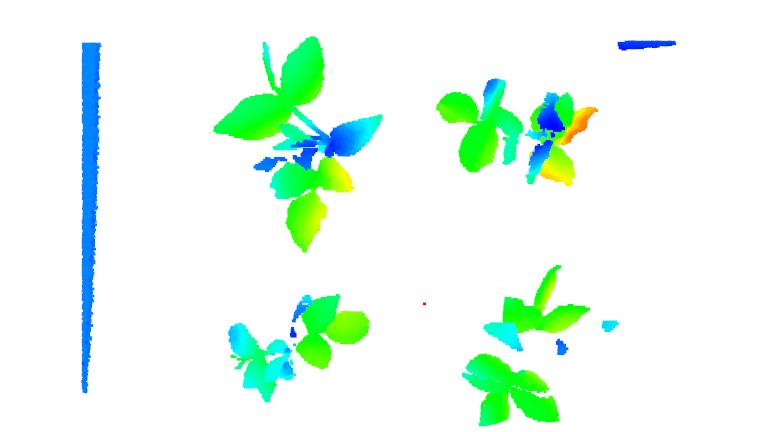mungbean: (201, 34, 388, 255), (433, 64, 589, 196), (468, 262, 586, 432), (227, 285, 379, 408)
